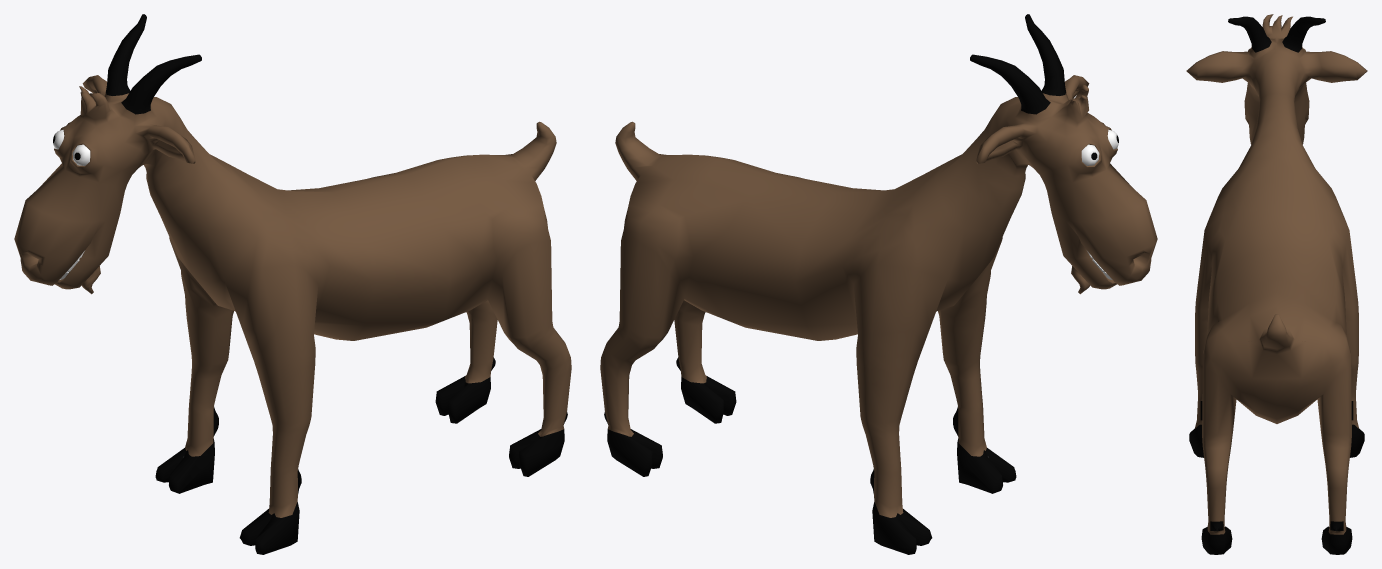
Rendered from goat 8.fbx.
3 views of the same model, side by side, from view 1: azimuth 30°, elevation 25°; view 2: azimuth 150°, elevation 25°; view 3: azimuth 270°, elevation 25° (orthographic). The views are drawn at different scales.
Visible parts, largest first — view 1: Cube.001; view 2: Cube.001; view 3: Cube.001.
Boxes of the visible parts, bbox=[...] form: Cube.001: bbox=[14, 14, 571, 554]; Cube.001: bbox=[600, 14, 1157, 554]; Cube.001: bbox=[1186, 14, 1367, 554].
Bounding box in the file's own units: 357 × 313 × 126.
Materials: 1 (1 with a texture image).
